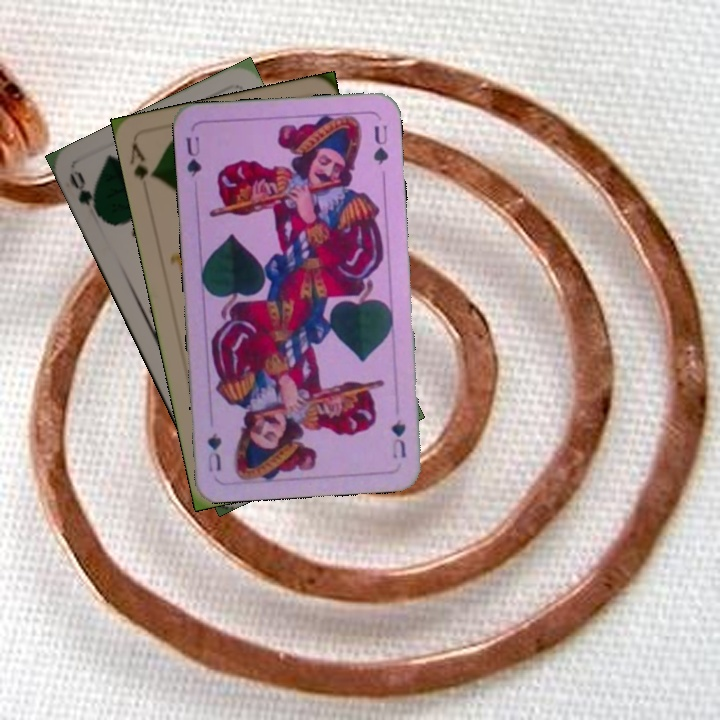GA: (126, 140, 158, 183)
GO: (66, 167, 106, 222)
GU: (181, 133, 205, 180), (387, 415, 409, 461)
